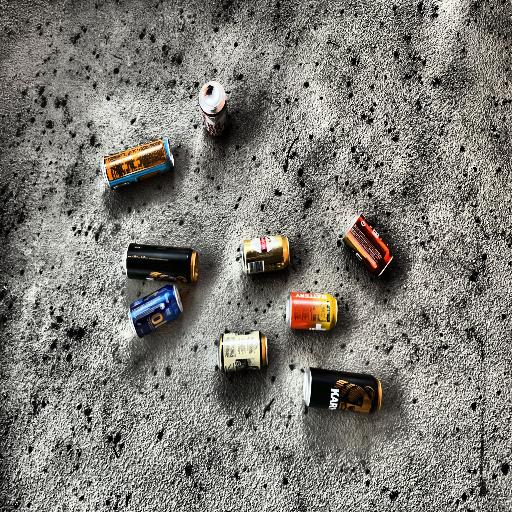A_LeCoq: (237, 228, 293, 279)
coop_larger: (335, 207, 401, 284)
karhu: (302, 362, 388, 423), (118, 236, 206, 285)
koff: (195, 76, 232, 142)
koti: (125, 286, 187, 344)
sandels: (214, 322, 272, 378)
